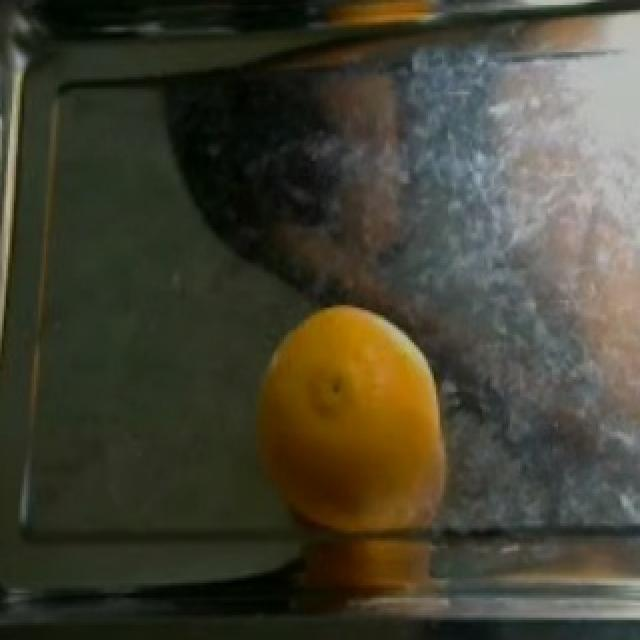Fruit: (230, 298, 460, 553), (266, 0, 492, 62)
